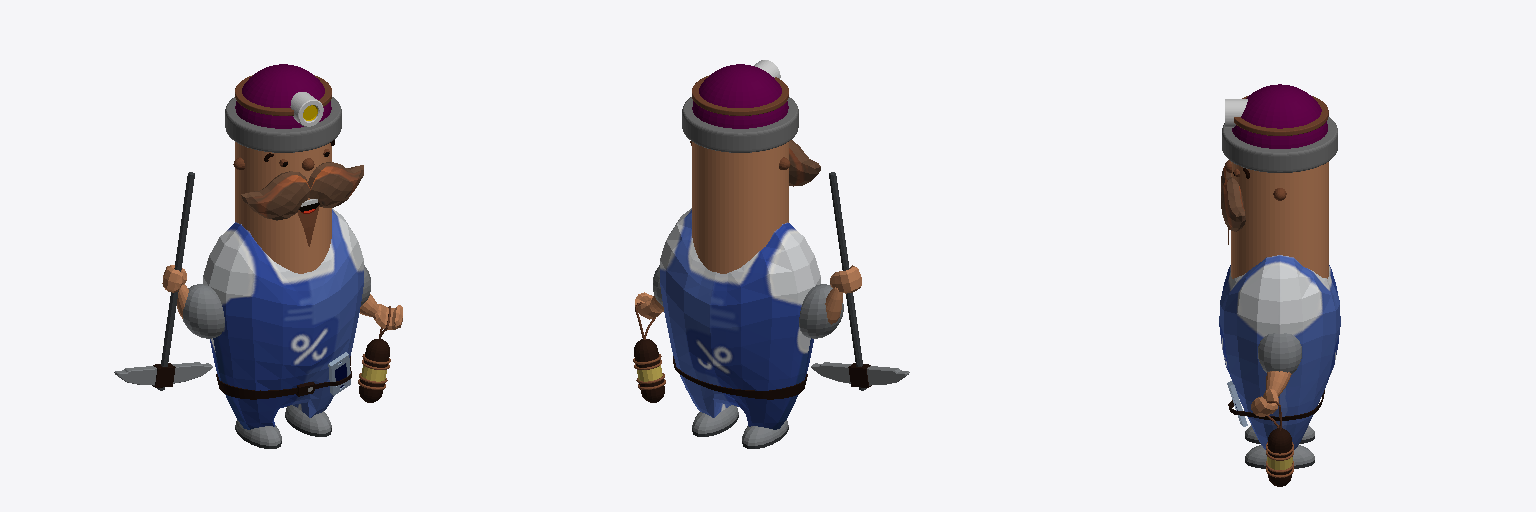
The picture shows the model from 3 angles: view 1: azimuth 30°, elevation 25°; view 2: azimuth 150°, elevation 25°; view 3: azimuth 270°, elevation 25°; orthographic projection.
Parts seen in each view (by area): view 1: Sphere.001, Cylinder.003_Cylinder.004, Cube_Cube.002, Sphere, Cylinder_Cylinder.001, Sphere.008_Sphere.006, Cylinder.005_Cylinder, Cube.002_Cube.001, Sphere.005_Sphere.004, Sphere.003, Cylinder.010, Cylinder.004_Cylinder.005 (+4 smaller); view 2: Sphere.001, Cylinder.003_Cylinder.004, Sphere, Cylinder_Cylinder.001, Sphere.008_Sphere.006, Cylinder.005_Cylinder, Cube.002_Cube.001, Sphere.005_Sphere.004, Cylinder.001_Cylinder.002, Cylinder.010, Cube_Cube.002, Sphere.003 (+2 smaller); view 3: Sphere.001, Cylinder.003_Cylinder.004, Sphere, Cylinder_Cylinder.001, Sphere.009, Cube_Cube.002, Sphere.005_Sphere.004, Cylinder.001_Cylinder.002, Sphere.003, Plane.002.
Boxes of the visible parts, <box> form: Sphere.001: <box>203,208,363,429</box>; Cylinder.003_Cylinder.004: <box>235,142,331,273</box>; Cube_Cube.002: <box>241,162,363,220</box>; Sphere: <box>235,64,331,128</box>; Cylinder_Cylinder.001: <box>225,97,341,152</box>; Sphere.008_Sphere.006: <box>183,284,224,338</box>; Cylinder.005_Cylinder: <box>157,172,194,390</box>; Cube.002_Cube.001: <box>114,362,212,385</box>; Sphere.005_Sphere.004: <box>359,339,389,402</box>; Sphere.003: <box>285,405,331,436</box>; Cylinder.010: <box>216,356,351,399</box>; Cylinder.004_Cylinder.005: <box>290,92,323,126</box>; Sphere.001: <box>660,208,820,429</box>; Cylinder.003_Cylinder.004: <box>692,142,788,273</box>; Sphere: <box>692,64,788,128</box>; Cylinder_Cylinder.001: <box>682,97,798,152</box>; Sphere.008_Sphere.006: <box>799,284,843,338</box>; Cylinder.005_Cylinder: <box>829,172,866,390</box>; Cube.002_Cube.001: <box>811,362,909,385</box>; Sphere.005_Sphere.004: <box>634,339,664,402</box>; Cylinder.001_Cylinder.002: <box>692,75,788,115</box>; Cylinder.010: <box>673,356,807,399</box>; Cube_Cube.002: <box>789,140,820,186</box>; Sphere.003: <box>692,405,738,436</box>; Sphere.001: <box>1219,255,1340,449</box>; Cylinder.003_Cylinder.004: <box>1231,162,1328,278</box>; Sphere: <box>1232,84,1327,148</box>; Cylinder_Cylinder.001: <box>1222,117,1337,172</box>; Sphere.009: <box>1258,333,1301,373</box>; Cube_Cube.002: <box>1221,160,1245,231</box>; Sphere.005_Sphere.004: <box>1267,428,1292,486</box>; Cylinder.001_Cylinder.002: <box>1234,96,1328,135</box>; Sphere.003: <box>1245,445,1314,468</box>; Plane.002: <box>1251,389,1278,416</box>.
Bounding box in the file's own units: 8.7 × 10.74 × 3.26.
Materials: 31 (1 with a texture image).